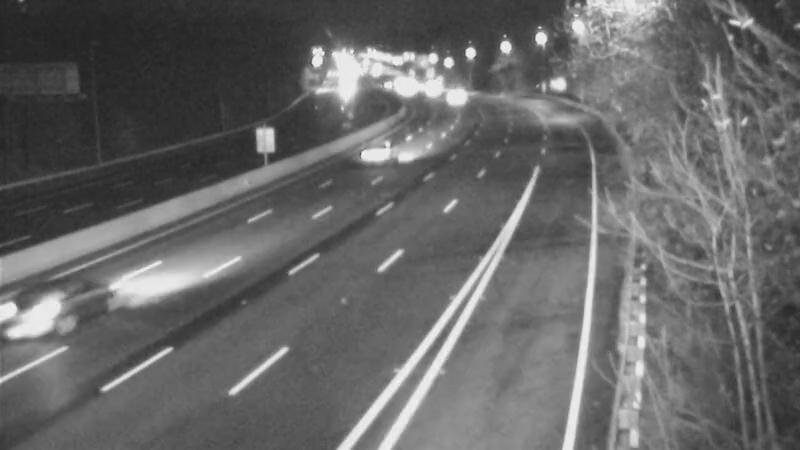vehicle: (1, 257, 98, 367), (337, 111, 417, 191), (406, 63, 456, 113), (429, 72, 479, 122)
